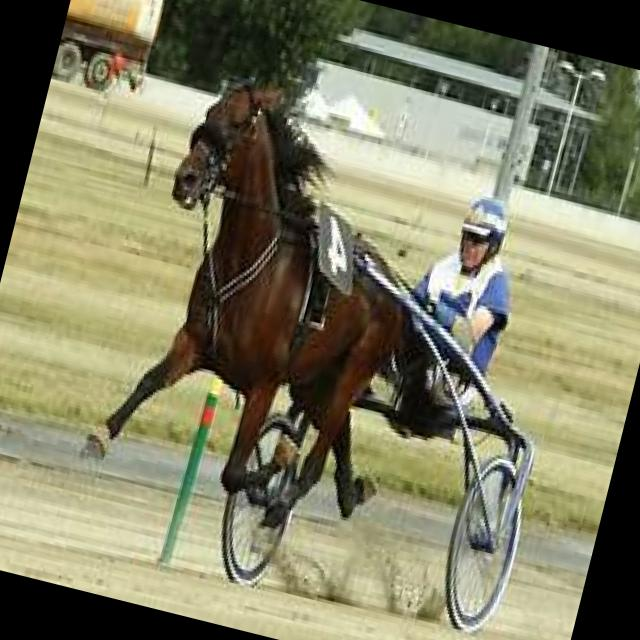horse: (26, 38, 466, 550)
